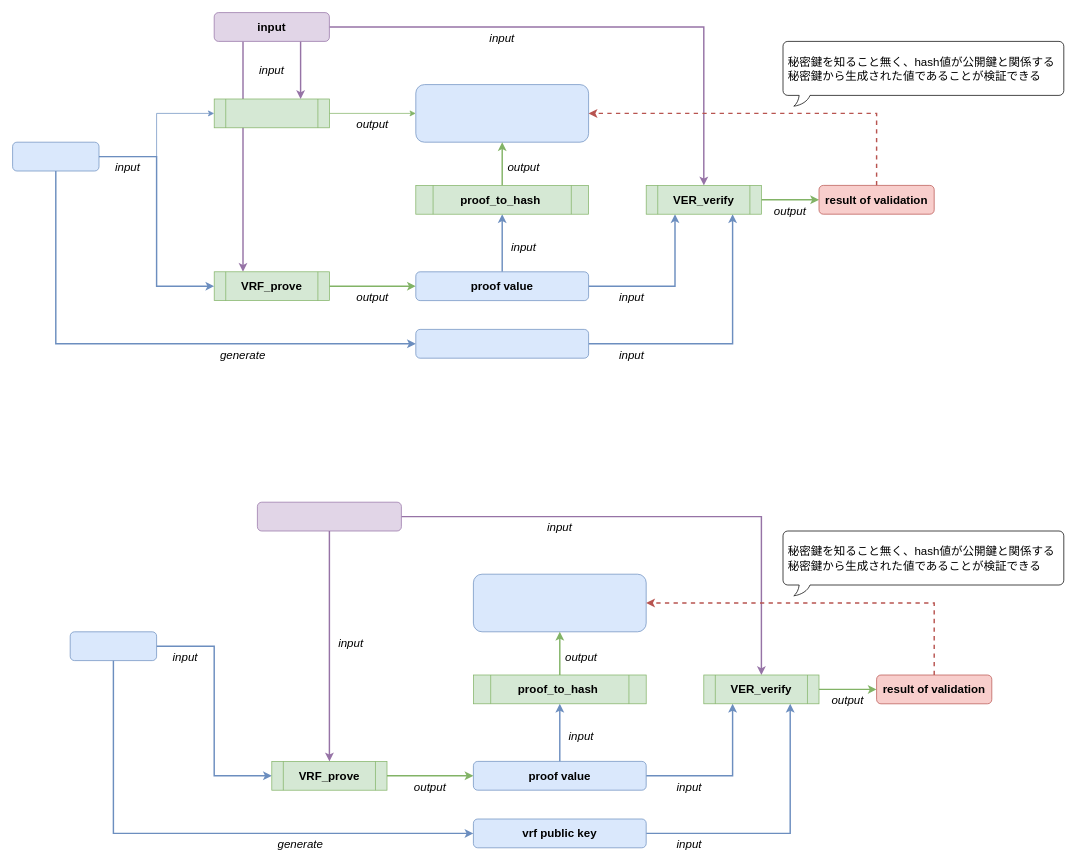
This 1076x868 diagram has some shape labels left out. Here are the shapes that lost their labels. From the top down, the box of each, then its label:
(213, 98, 329, 128): VRF_hash
(415, 84, 589, 142): random value ( hash value )
(12, 141, 99, 171): secret key
(415, 329, 589, 358): public key
(257, 501, 401, 531): N-1 generation hash
(473, 573, 646, 632): N generation hash
(69, 631, 157, 661): vrf secret key
